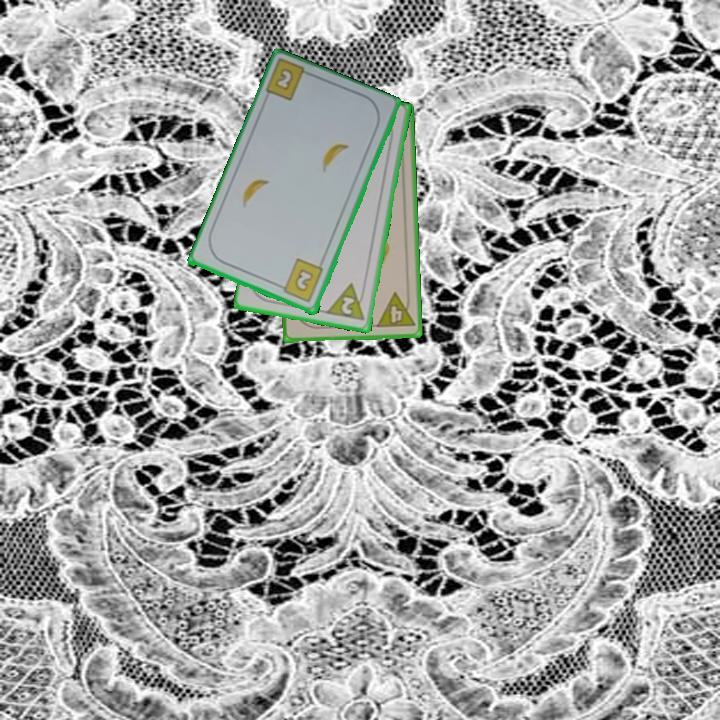2b: (275, 256, 326, 306), (271, 65, 297, 94)
2p: (324, 280, 369, 324)
4p: (373, 289, 417, 331)
